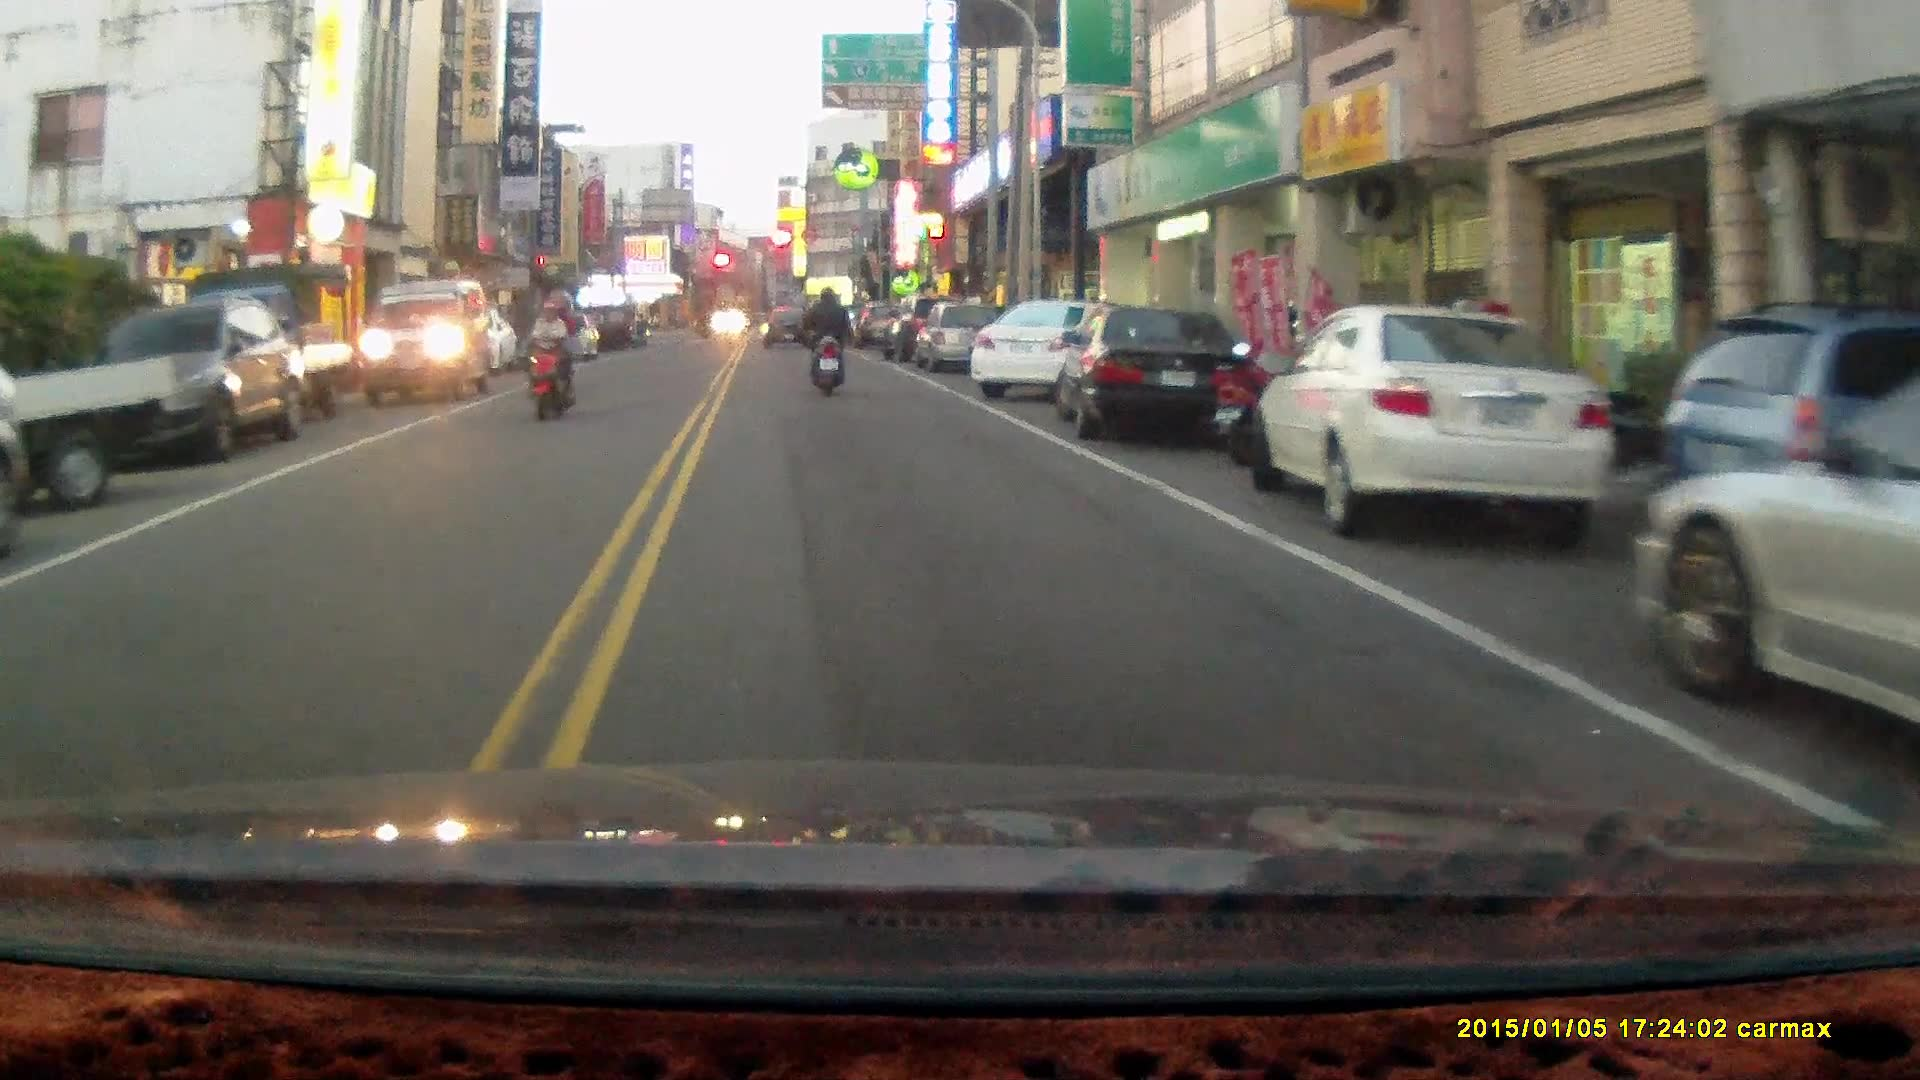rider: (528, 282, 584, 419), (803, 284, 849, 400)
vehicle: (1643, 368, 1920, 752), (1239, 305, 1608, 536), (82, 294, 304, 472), (166, 257, 363, 429), (1054, 304, 1251, 451), (970, 296, 1150, 401), (360, 279, 500, 408), (913, 300, 1011, 376)
